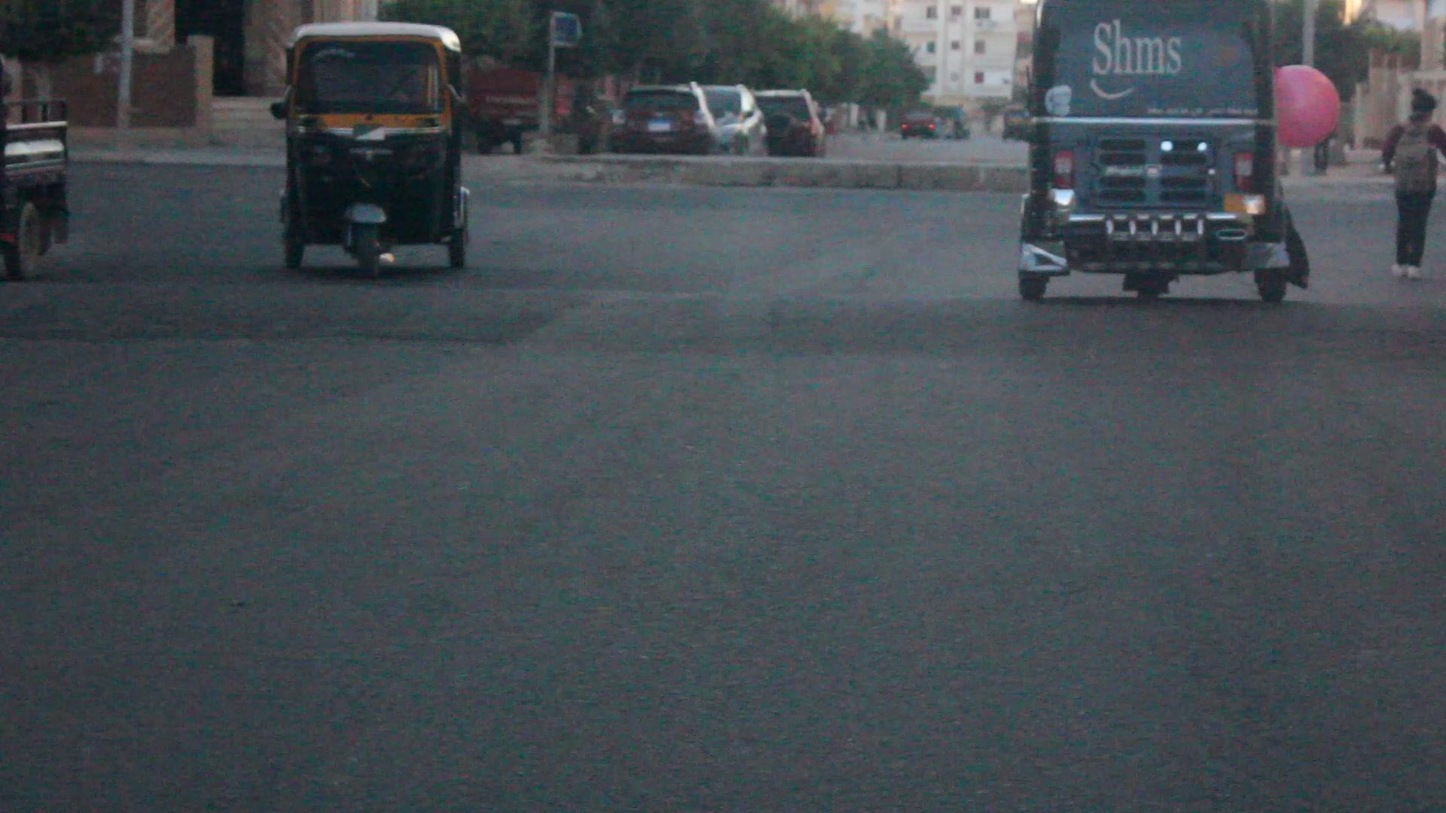Bump: (6, 269, 1446, 369)
